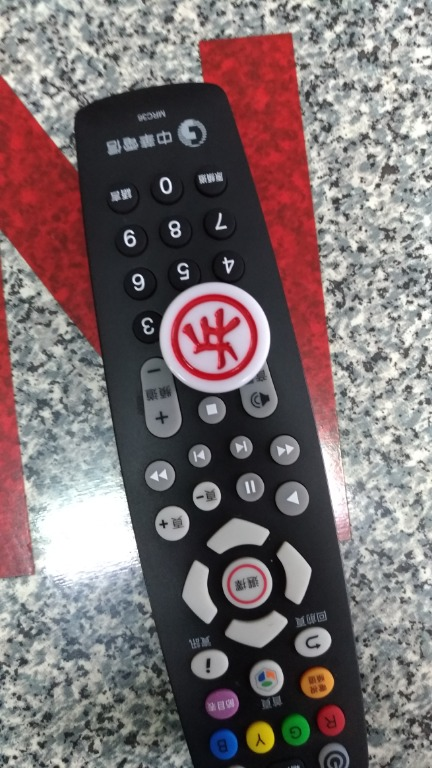r-pawn: (155, 281, 275, 394)
